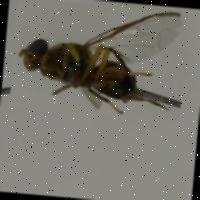Oriental-fruit-fly: (8, 0, 188, 119)
